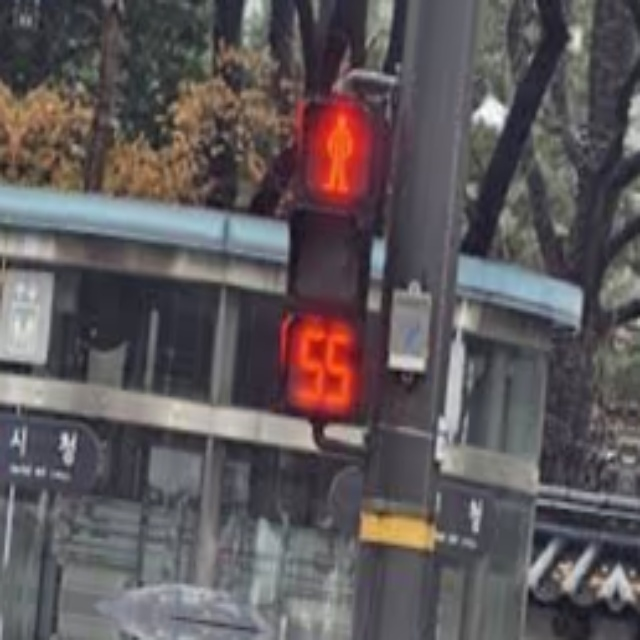red_light: (277, 311, 363, 415), (295, 99, 375, 210)
